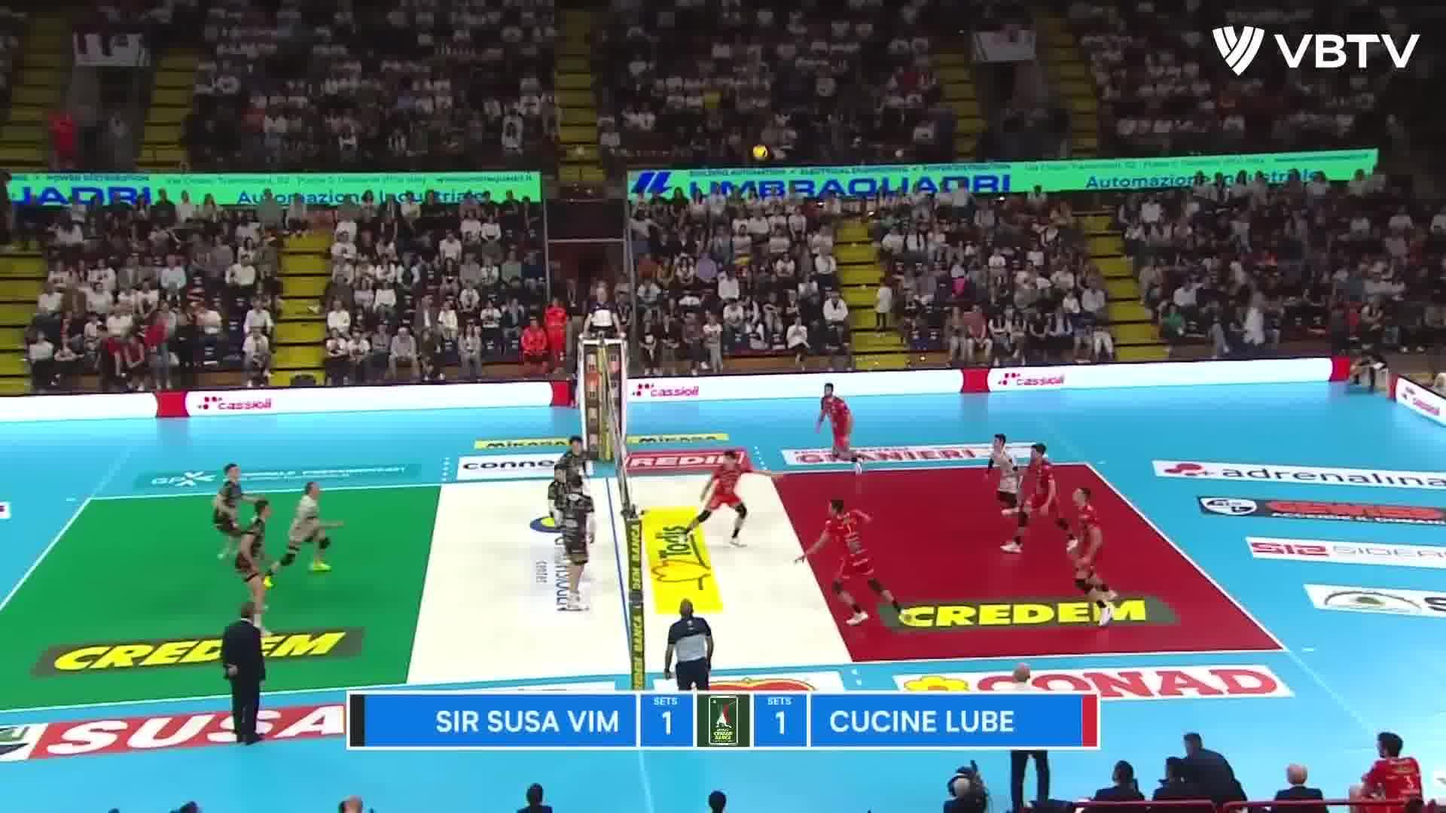balls: (752, 140, 770, 166)
